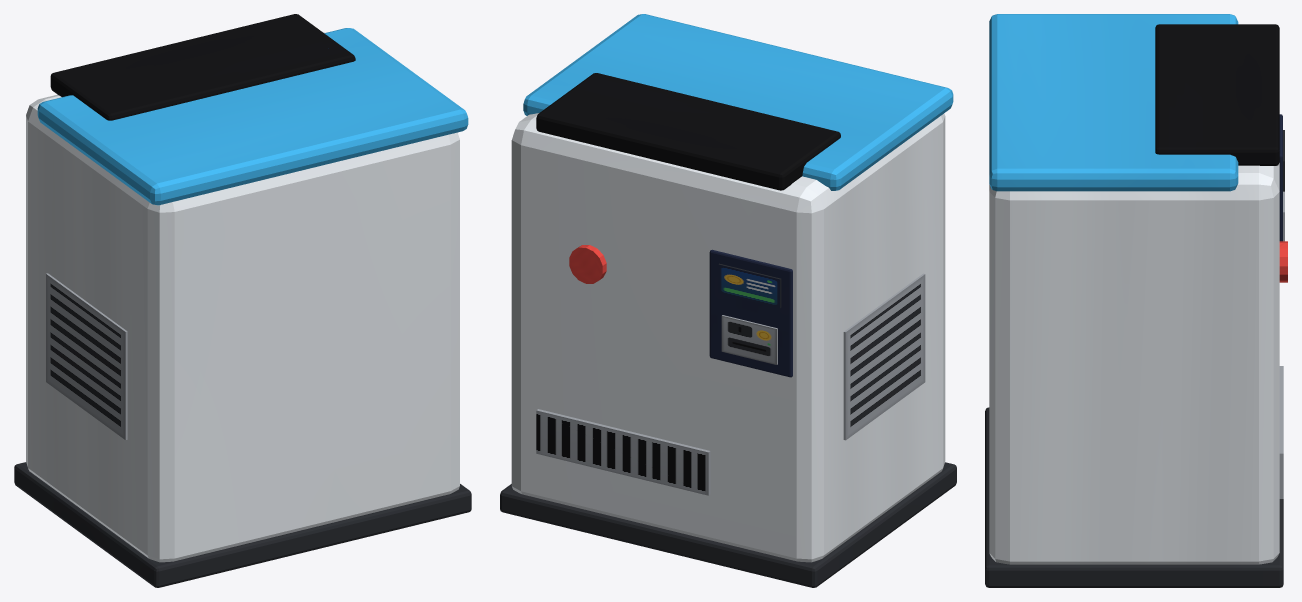
The model's file is SW_MatWasher.glb.
The picture shows the model from 3 angles, left to right: view 1: azimuth 30°, elevation 25°; view 2: azimuth 150°, elevation 25°; view 3: azimuth 270°, elevation 25°; orthographic projection. The views are drawn at different scales.
Parts seen in each view (by area): view 1: Body; view 2: Body; view 3: Body.
Boxes of the visible parts, x1,y1,x2,y2 form: Body: (14,14,471,587); Body: (500,14,956,587); Body: (985,14,1287,587).
Size of the model in its own units: 0.92 by 1.13 by 0.73.
Materials: 1 (1 with a texture image).
